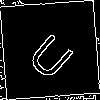U: (24, 24, 83, 83)
